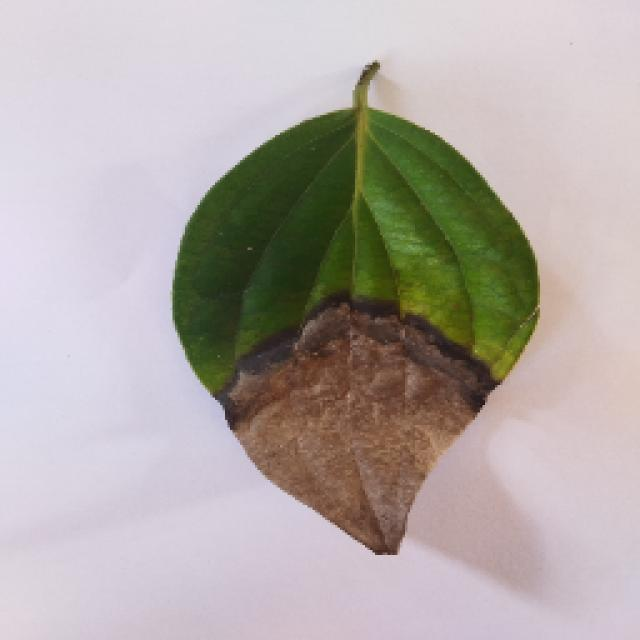footrot: (168, 60, 542, 558)
